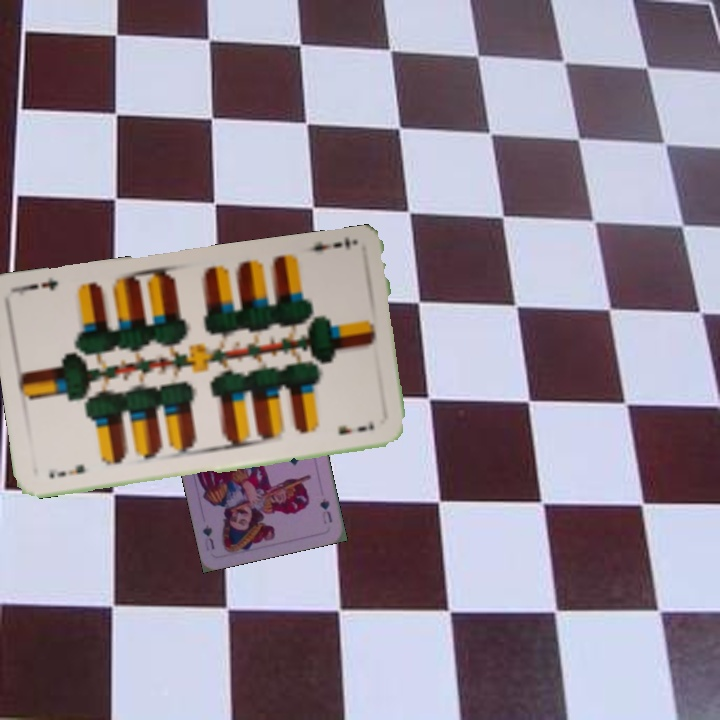E7: (301, 234, 353, 255), (44, 460, 88, 481)
GU: (316, 494, 335, 527)
